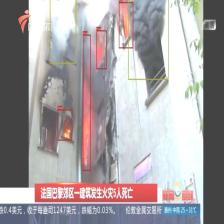fire: (83, 34, 91, 170), (119, 2, 133, 48), (96, 30, 107, 69), (58, 110, 72, 140)
smoke: (128, 0, 168, 79), (49, 0, 76, 64)
